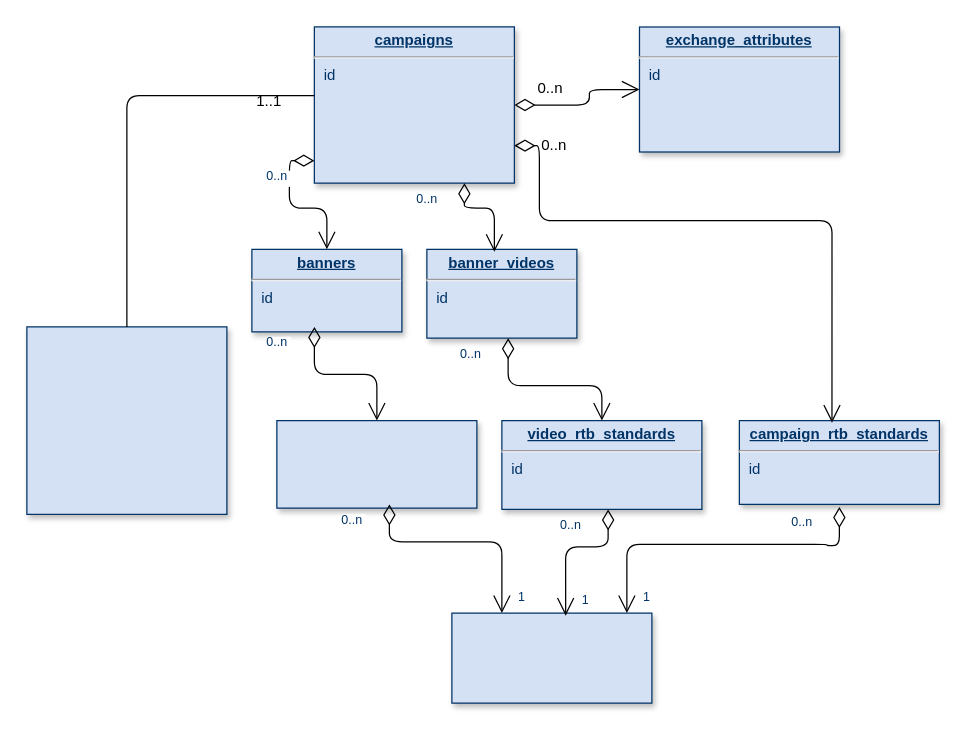
Some shapes in this 969 by 734 pixel diagram are drawn without their labels. Each missing label, with the centre of its shape:
banner_rtb_standards id: [377,465]
rtb_standards id: [552,659]
target id: [127,422]
